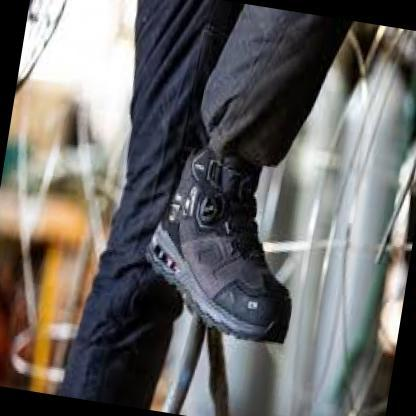safety-shoe: (138, 146, 322, 342)
